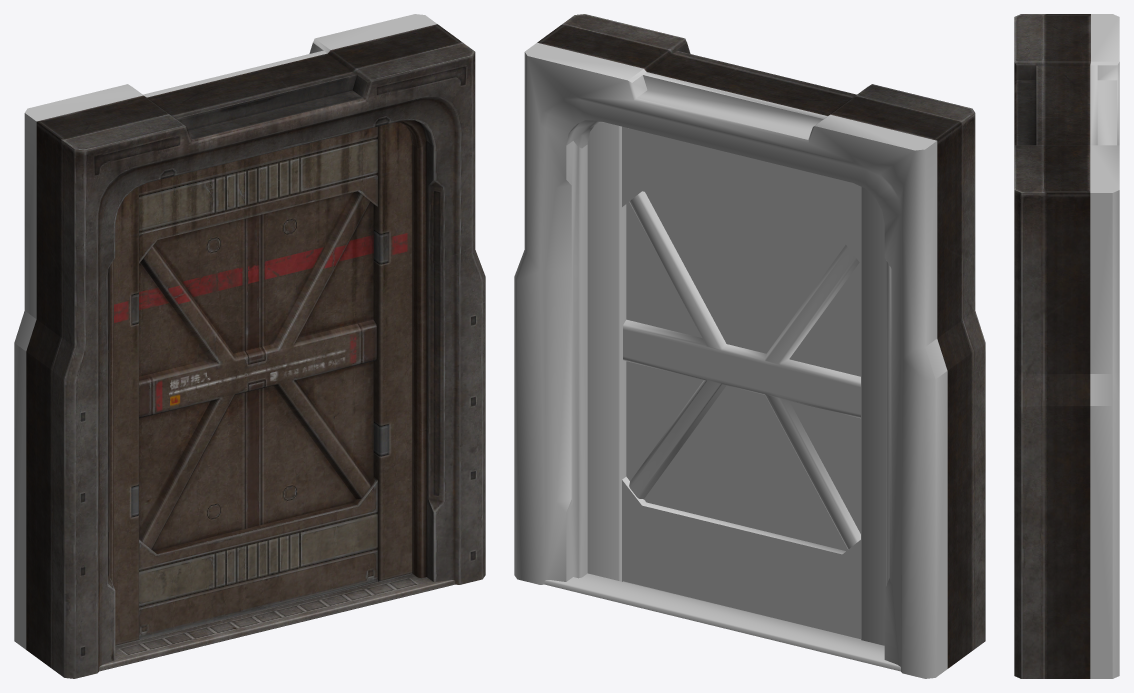
Rendered from slidedoor_medium_vertical_airlock2.dae.
The picture shows the model from 3 angles, left to right: view 1: azimuth 30°, elevation 25°; view 2: azimuth 150°, elevation 25°; view 3: azimuth 270°, elevation 25°; orthographic projection. The views are drawn at different scales.
Visible parts, largest first — view 1: innerframe, innerdoor, polySurface2, outerframe; view 2: outerdoor, outerframe, innerframe; view 3: innerframe, outerframe.
Part boxes in pixels (x1=…): innerframe: x1=26, y1=24, x2=485, y2=678; innerdoor: x1=114, y1=122, x2=412, y2=645; polySurface2: x1=139, y1=191, x2=376, y2=549; outerframe: x1=14, y1=14, x2=436, y2=649; outerdoor: x1=587, y1=122, x2=885, y2=645; outerframe: x1=514, y1=42, x2=947, y2=678; innerframe: x1=537, y1=14, x2=985, y2=668; innerframe: x1=1014, y1=14, x2=1090, y2=678; outerframe: x1=1090, y1=14, x2=1119, y2=678.
Bounding box in the file's own units: 2.63 × 3.14 × 0.6204.
